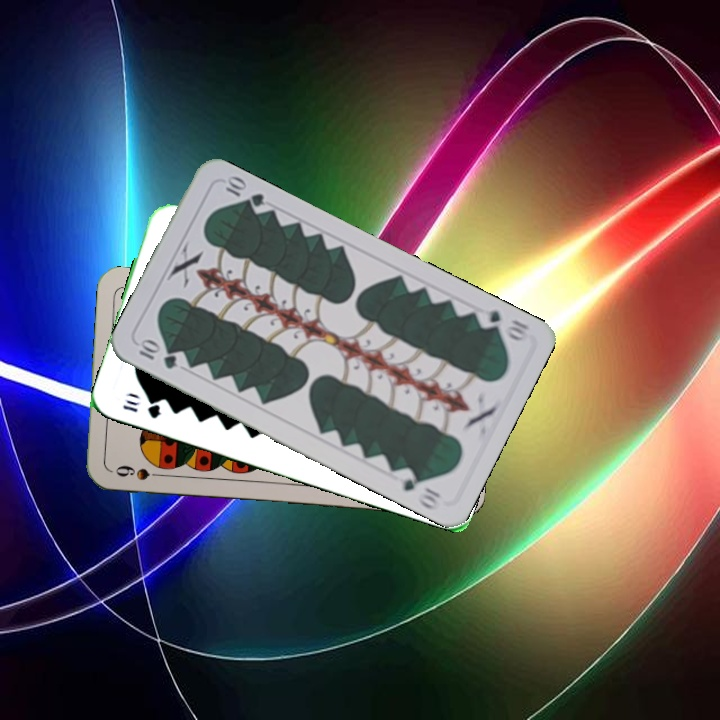G10: (472, 306, 533, 344), (132, 335, 180, 372), (118, 394, 163, 421)
S9: (111, 461, 169, 483)
